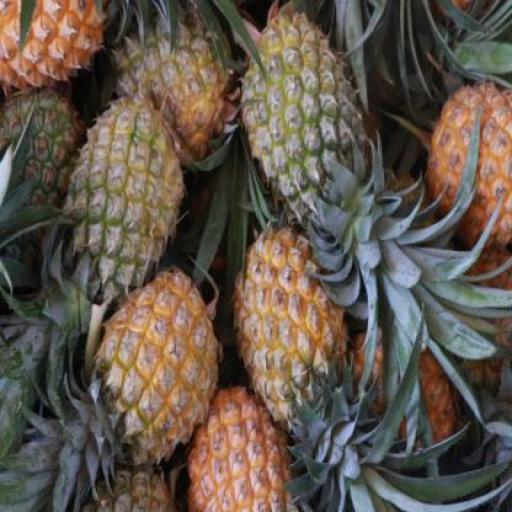------------------------------: (244, 6, 362, 220), (68, 100, 178, 296), (113, 7, 232, 164)
Pineapple - v8 v1: (233, 228, 343, 423), (98, 274, 210, 462), (189, 365, 302, 512)
